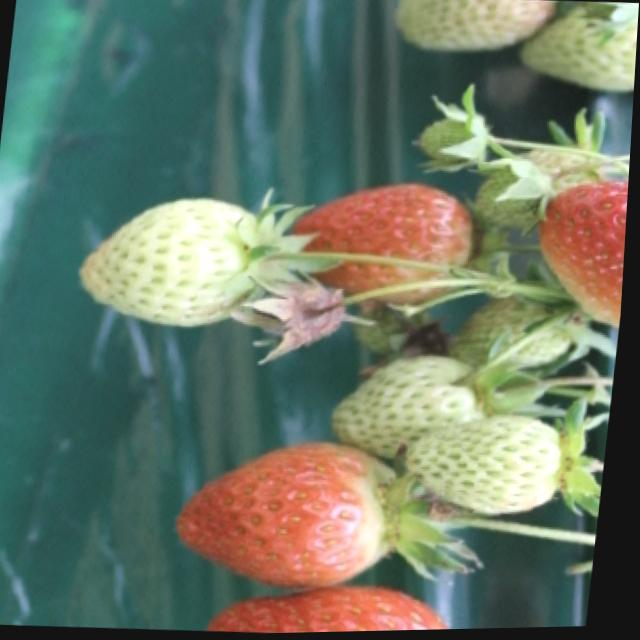Gray Mold: (244, 274, 352, 367)
